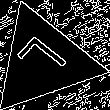L_SE: (13, 32, 74, 89)
